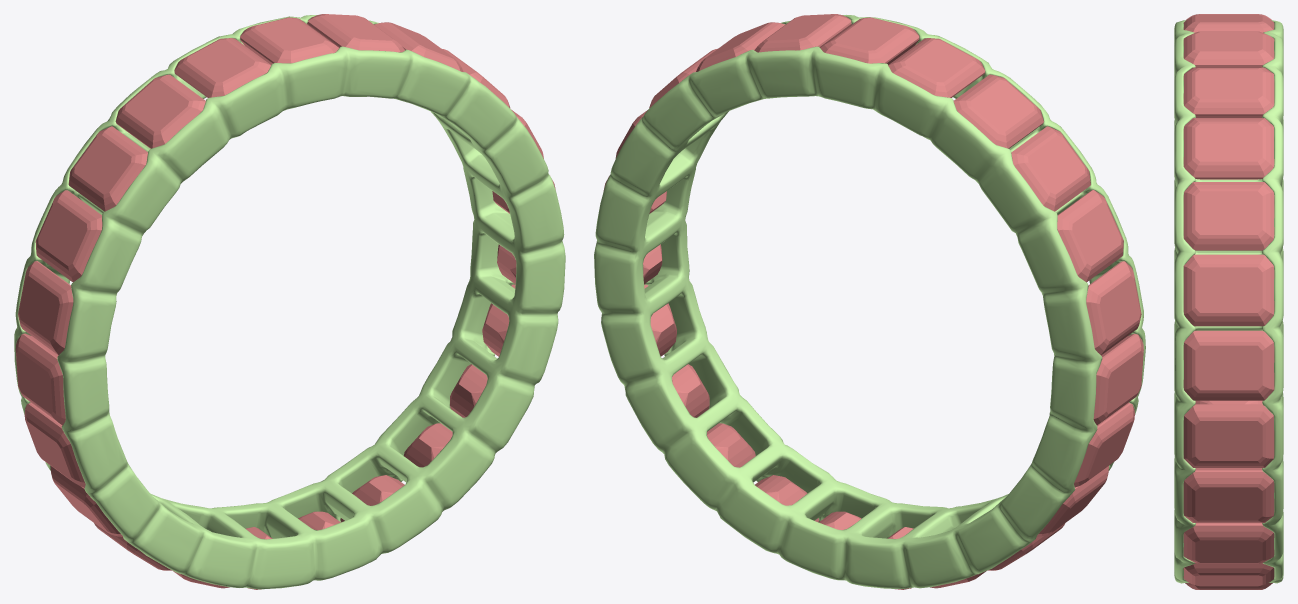
File: BE2D013ELC_RENDER.glb
3 views of the same model, side by side, from view 1: azimuth 30°, elevation 25°; view 2: azimuth 150°, elevation 25°; view 3: azimuth 270°, elevation 25° (orthographic). The views are drawn at different scales.
Visible parts, largest first — view 1: Metal03, Diamond_Emerald_Gem_BD.003, Diamond_Emerald_Gem_BD.004, Diamond_Emerald_Gem_BD.002, Diamond_Emerald_Gem_BD.001, Diamond_Emerald_Gem_BD.005, Diamond_Emerald_Gem_BD.006, Diamond_Emerald_Gem_BD, Diamond_Emerald_Gem_BD.007, Diamond_Emerald_Gem_BD.022, Diamond_Emerald_Gem_BD.008, Diamond_Emerald_Gem_BD.021 (+4 smaller); view 2: Metal03, Diamond_Emerald_Gem_BD.003, Diamond_Emerald_Gem_BD.004, Diamond_Emerald_Gem_BD.002, Diamond_Emerald_Gem_BD.005, Diamond_Emerald_Gem_BD.001, Diamond_Emerald_Gem_BD.006, Diamond_Emerald_Gem_BD, Diamond_Emerald_Gem_BD.022, Diamond_Emerald_Gem_BD.007, Diamond_Emerald_Gem_BD.021, Diamond_Emerald_Gem_BD.008 (+4 smaller); view 3: Metal03, Diamond_Emerald_Gem_BD.019, Diamond_Emerald_Gem_BD.018, Diamond_Emerald_Gem_BD.020, Diamond_Emerald_Gem_BD.017, Diamond_Emerald_Gem_BD.021, Diamond_Emerald_Gem_BD.016, Diamond_Emerald_Gem_BD.022, Diamond_Emerald_Gem_BD.015, Diamond_Emerald_Gem_BD, Diamond_Emerald_Gem_BD.014, Diamond_Emerald_Gem_BD.001 (+2 smaller).
Part boxes in pixels (x1,y1,x2,y2): Metal03: [14, 15, 565, 589]; Diamond_Emerald_Gem_BD.003: [68, 126, 147, 211]; Diamond_Emerald_Gem_BD.004: [35, 190, 102, 282]; Diamond_Emerald_Gem_BD.002: [115, 74, 205, 148]; Diamond_Emerald_Gem_BD.001: [174, 38, 271, 97]; Diamond_Emerald_Gem_BD.005: [18, 261, 73, 355]; Diamond_Emerald_Gem_BD.006: [15, 333, 65, 425]; Diamond_Emerald_Gem_BD: [240, 17, 338, 64]; Diamond_Emerald_Gem_BD.007: [24, 402, 85, 487]; Diamond_Emerald_Gem_BD.022: [307, 14, 404, 52]; Diamond_Emerald_Gem_BD.008: [50, 466, 122, 536]; Diamond_Emerald_Gem_BD.021: [374, 22, 463, 71]; Metal03: [594, 15, 1145, 588]; Diamond_Emerald_Gem_BD.003: [1011, 126, 1090, 211]; Diamond_Emerald_Gem_BD.004: [1057, 190, 1123, 282]; Diamond_Emerald_Gem_BD.002: [953, 74, 1043, 148]; Diamond_Emerald_Gem_BD.005: [1086, 261, 1141, 355]; Diamond_Emerald_Gem_BD.001: [888, 38, 985, 97]; Diamond_Emerald_Gem_BD.006: [1093, 333, 1143, 425]; Diamond_Emerald_Gem_BD: [820, 17, 919, 64]; Diamond_Emerald_Gem_BD.022: [754, 14, 851, 52]; Diamond_Emerald_Gem_BD.007: [1074, 402, 1134, 487]; Diamond_Emerald_Gem_BD.021: [696, 22, 785, 71]; Diamond_Emerald_Gem_BD.008: [1036, 466, 1108, 536]; Metal03: [1174, 20, 1283, 583]; Diamond_Emerald_Gem_BD.019: [1183, 254, 1274, 326]; Diamond_Emerald_Gem_BD.018: [1183, 330, 1274, 400]; Diamond_Emerald_Gem_BD.020: [1183, 182, 1274, 250]; Diamond_Emerald_Gem_BD.017: [1183, 404, 1274, 467]; Diamond_Emerald_Gem_BD.021: [1183, 118, 1274, 179]; Diamond_Emerald_Gem_BD.016: [1183, 468, 1274, 522]; Diamond_Emerald_Gem_BD.022: [1183, 67, 1274, 117]; Diamond_Emerald_Gem_BD.015: [1183, 523, 1274, 563]; Diamond_Emerald_Gem_BD: [1183, 31, 1274, 67]; Diamond_Emerald_Gem_BD.014: [1183, 563, 1274, 586]; Diamond_Emerald_Gem_BD.001: [1183, 15, 1274, 32].
Size of the model in its own units: 20.53 by 20.49 by 3.9.
